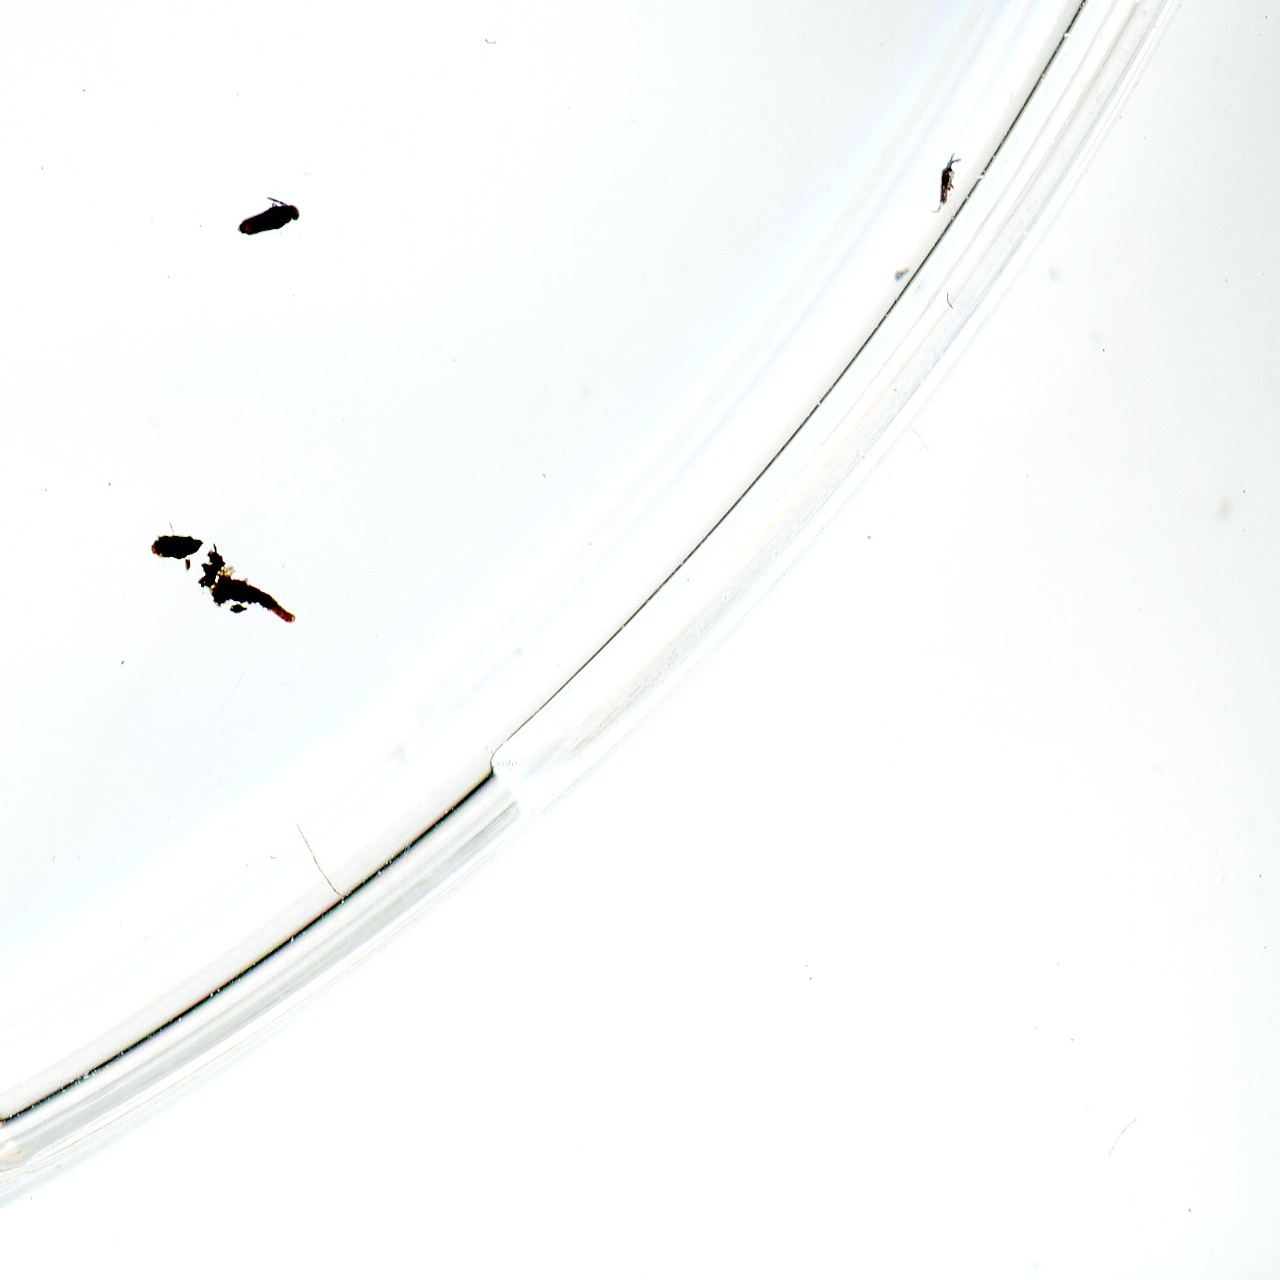arthropod: (226, 185, 306, 247), (926, 150, 965, 217)
